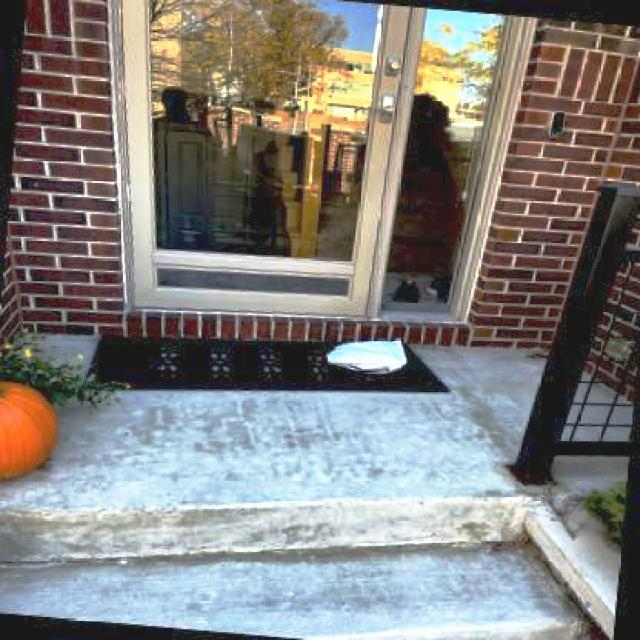Box: (326, 332, 408, 377)
